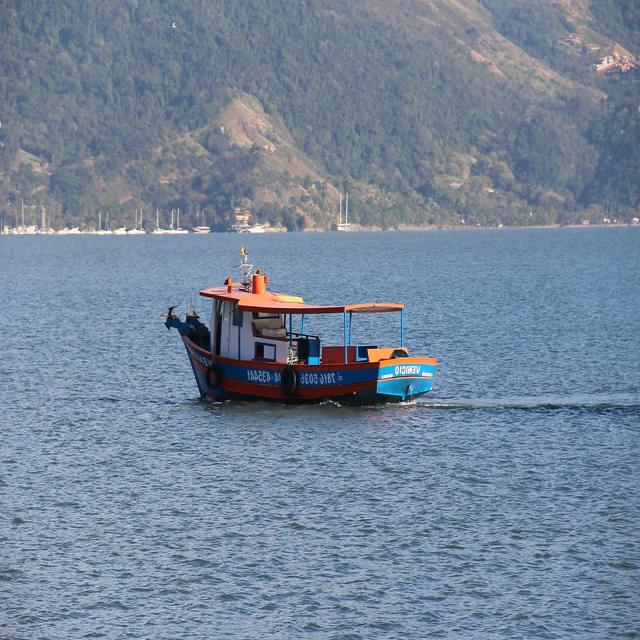fishing boat: (166, 263, 436, 418)
